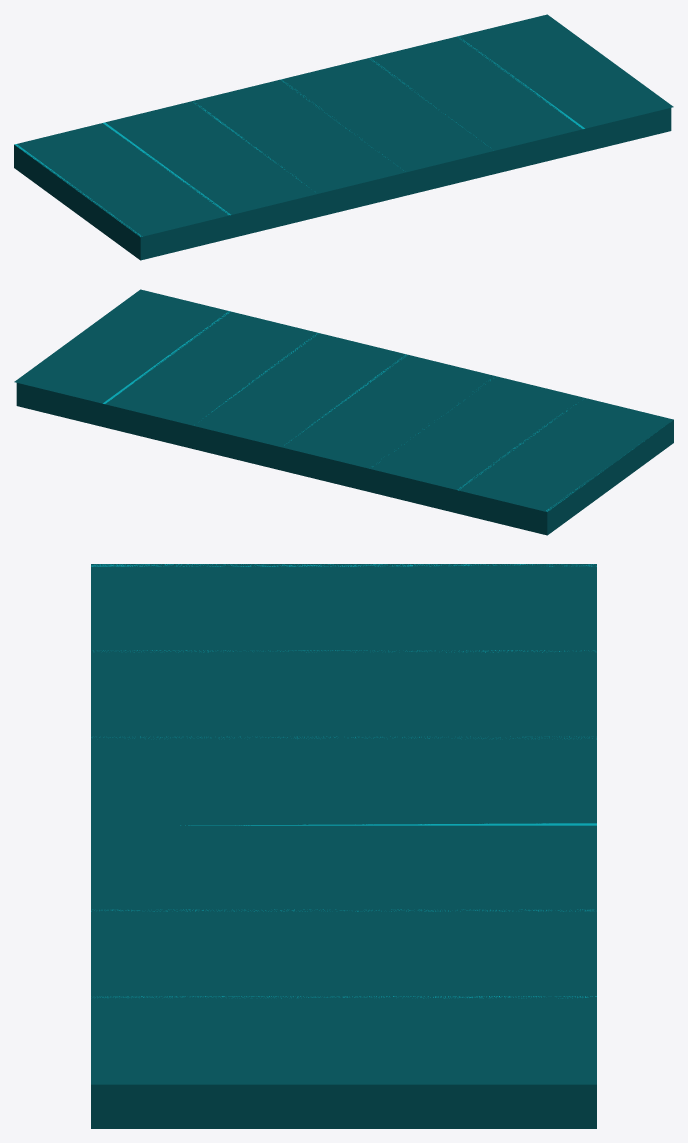
File: reta.fbx
3 views of the same model, one above another, from view 1: azimuth 30°, elevation 25°; view 2: azimuth 150°, elevation 25°; view 3: azimuth 270°, elevation 25° (orthographic). The views are drawn at different scales.
Parts seen in each view (by area): view 1: Cube; view 2: Cube; view 3: Cube.
Boxes of the visible parts, box(x1,y1,x2,y2) form: Cube: box(14, 14, 673, 260); Cube: box(14, 289, 673, 535); Cube: box(91, 564, 596, 1128).
Bounding box in the file's own units: 487 × 20.34 × 200.
